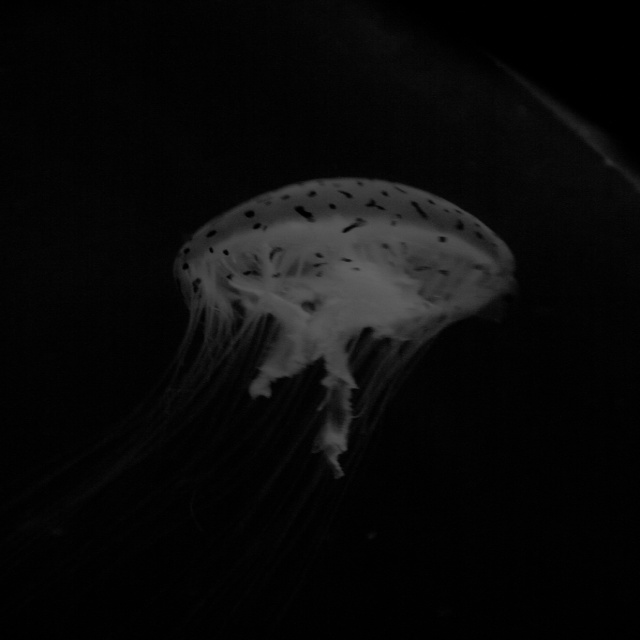Jellyfish: (59, 188, 533, 594)
